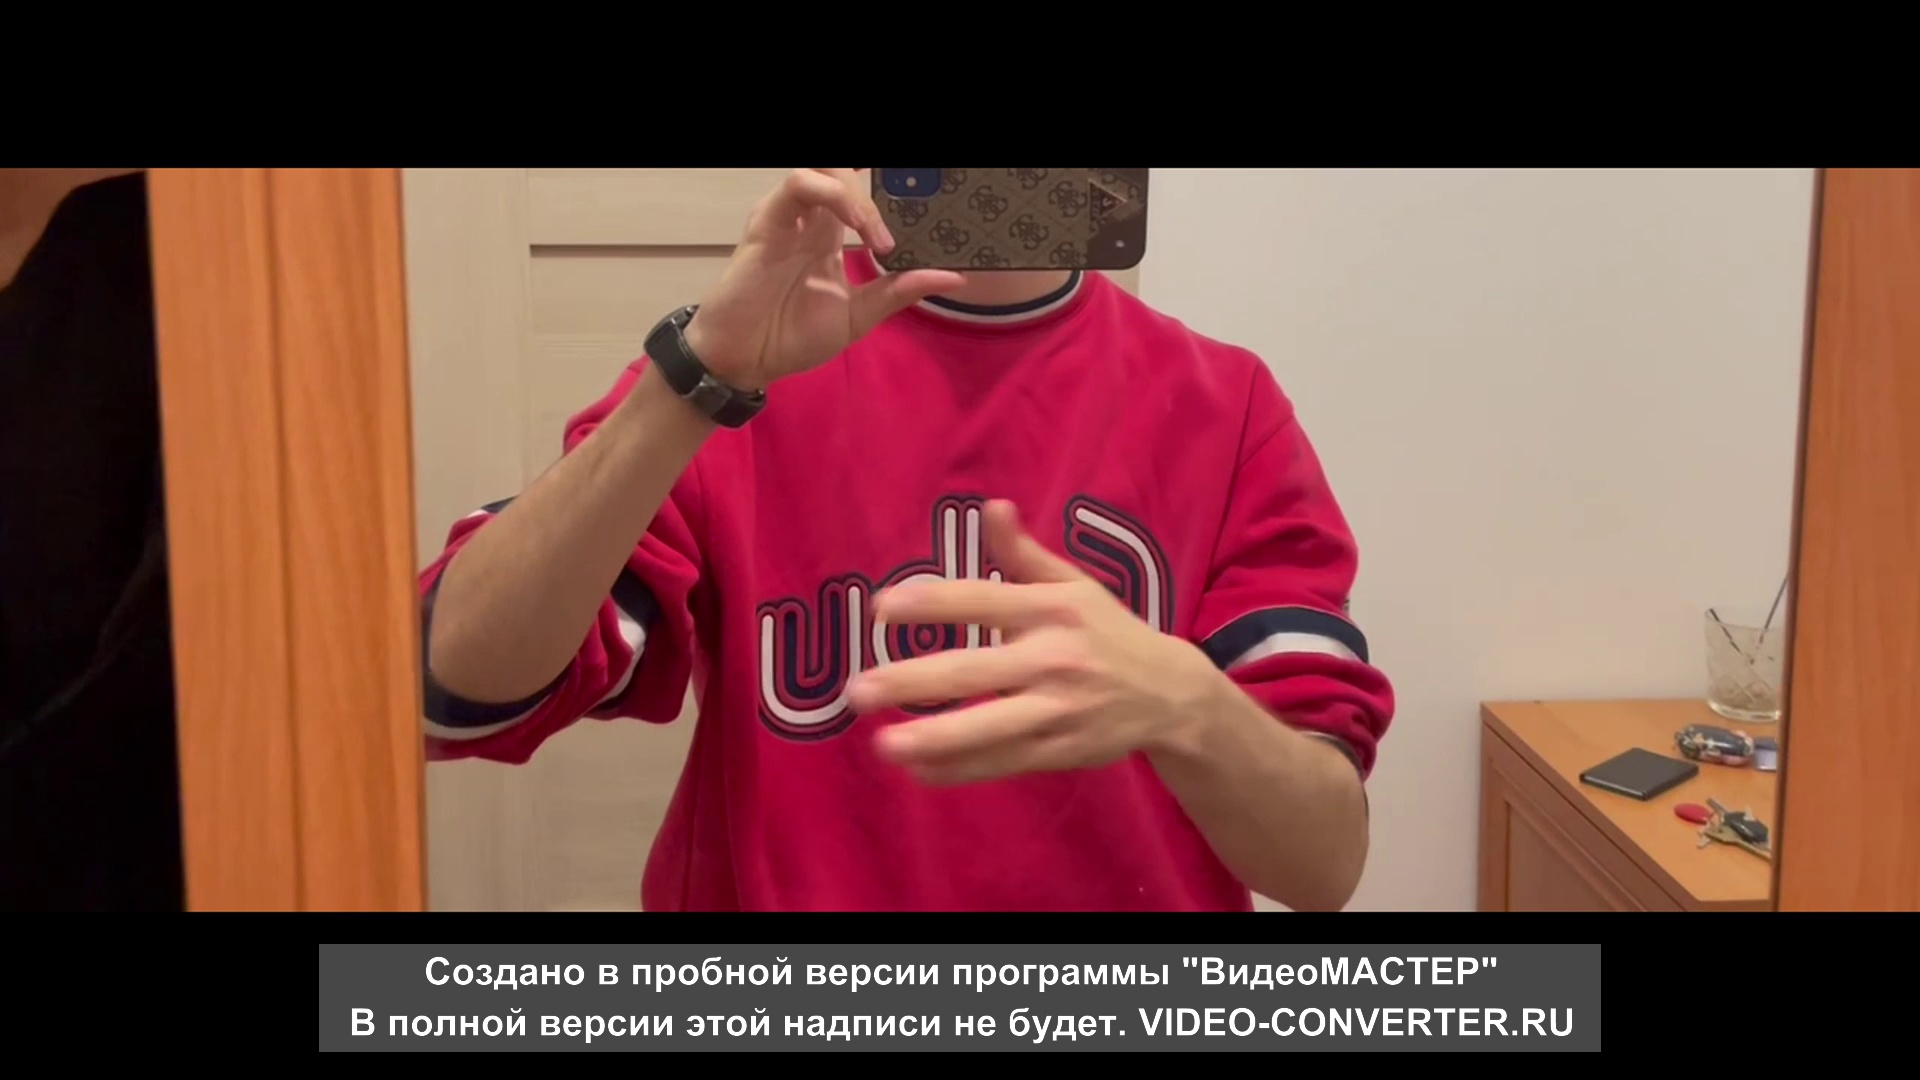Кисть: (847, 498, 1171, 782)
